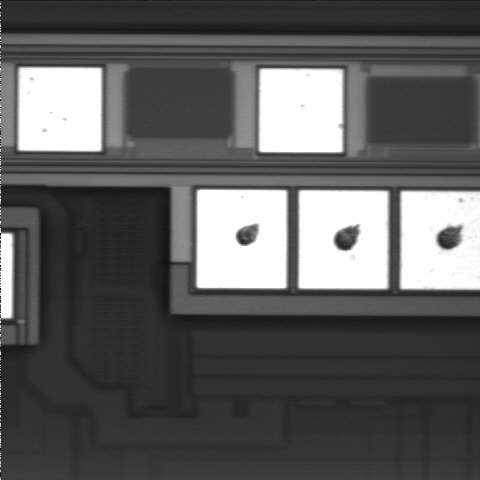pad: (197, 190, 287, 288), (299, 190, 388, 289), (259, 69, 343, 152), (18, 68, 101, 151)
